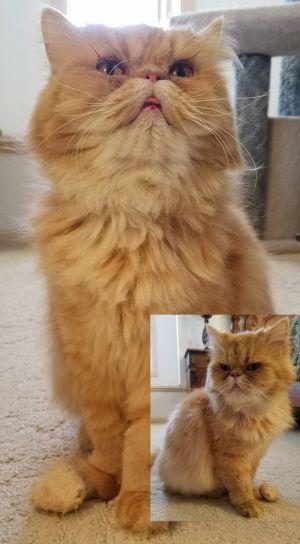persian: (25, 1, 255, 217)
